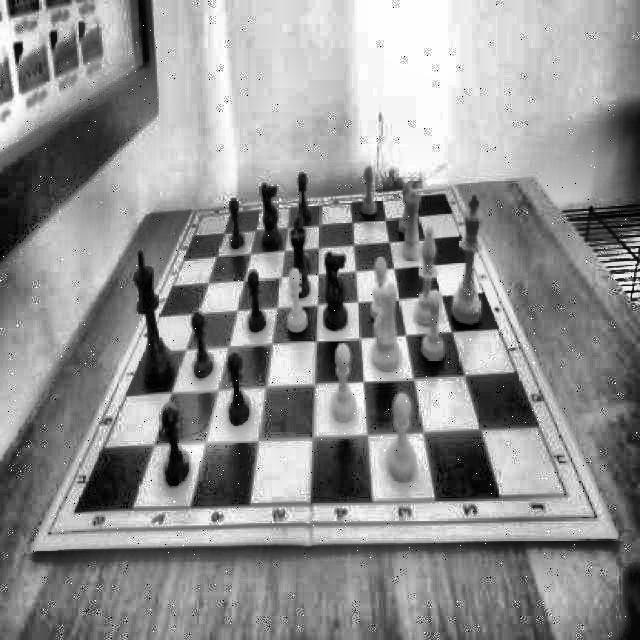black-king: (134, 253, 174, 393)
black-knight: (323, 245, 353, 335), (258, 180, 284, 252)
black-pawn: (160, 400, 189, 490), (188, 310, 214, 383), (226, 353, 250, 429), (245, 270, 268, 336), (290, 216, 312, 266), (296, 166, 312, 224), (230, 197, 246, 253)
black-rook: (287, 228, 311, 300)
white-bishop: (412, 228, 444, 328)
white-king: (450, 192, 484, 326)
white-knight: (370, 283, 402, 375)
white-pawn: (386, 391, 419, 488), (328, 343, 357, 422), (421, 285, 448, 363), (284, 268, 310, 336), (370, 256, 392, 322), (398, 180, 416, 238), (360, 165, 378, 218)
white-rook: (404, 192, 422, 260)
